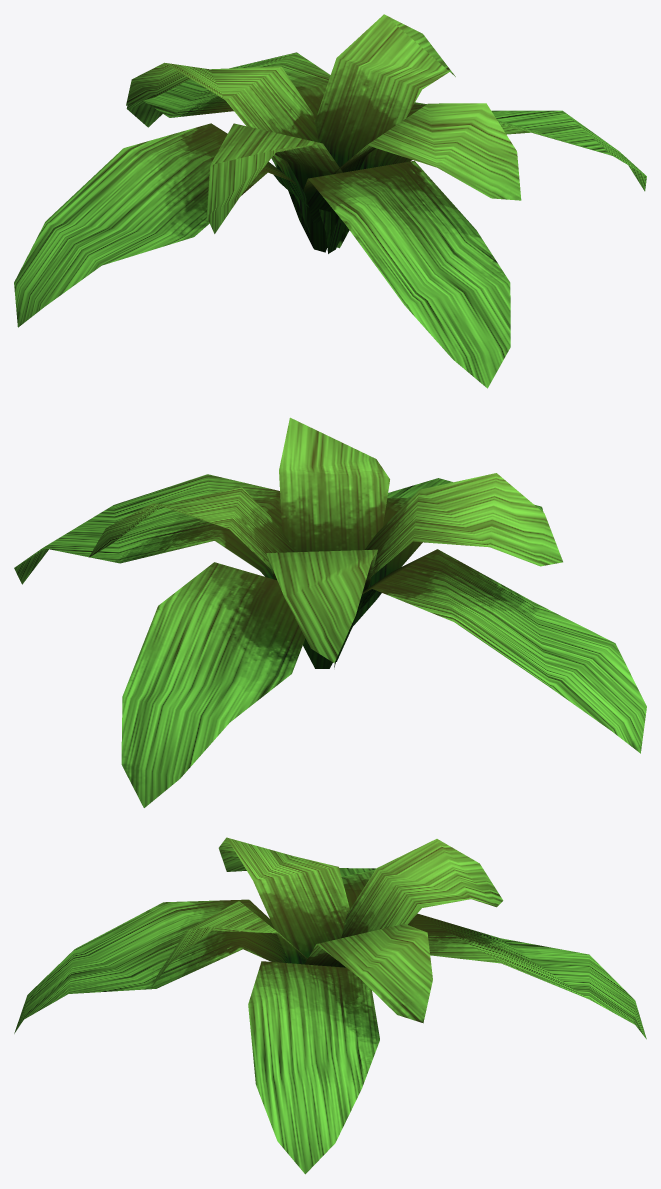
Rendered from PLantas2.fbx.
The picture shows the model from 3 angles, top to bottom: view 1: azimuth 30°, elevation 25°; view 2: azimuth 150°, elevation 25°; view 3: azimuth 270°, elevation 25°; orthographic projection. The views are drawn at different scales.
Visible parts, largest first — view 1: Plane.001; view 2: Plane.001; view 3: Plane.001.
Boxes of the visible parts, x1,y1,x2,y2 form: Plane.001: (14,14,646,388); Plane.001: (14,417,646,807); Plane.001: (14,837,646,1174).
Bounding box in the file's own units: 305 × 83.67 × 305.
